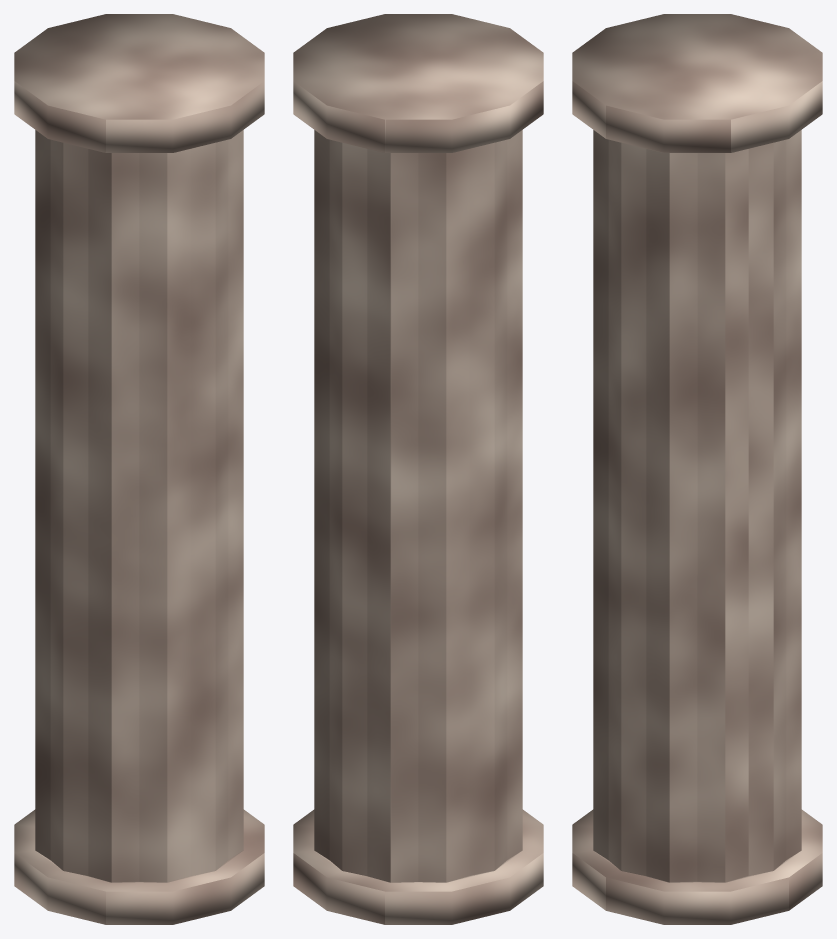
File: Pillar.fbx
The picture shows the model from 3 angles, left to right: view 1: azimuth 30°, elevation 25°; view 2: azimuth 150°, elevation 25°; view 3: azimuth 270°, elevation 25°; orthographic projection.
Visible parts, largest first — view 1: Cylinder; view 2: Cylinder; view 3: Cylinder.
Part boxes in pixels (left/top/right/bottom): Cylinder: left=14, top=14, right=264, bottom=924; Cylinder: left=293, top=14, right=543, bottom=924; Cylinder: left=572, top=14, right=822, bottom=924.
Bounding box in the file's own units: 2.32 × 8.24 × 2.32.
